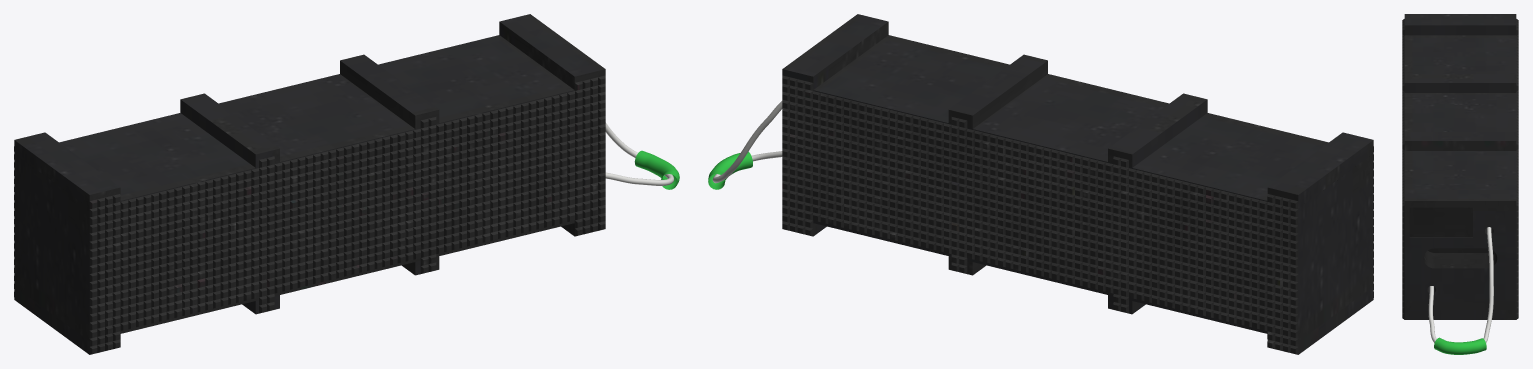
3 views of the same model, side by side, from view 1: azimuth 30°, elevation 25°; view 2: azimuth 150°, elevation 25°; view 3: azimuth 270°, elevation 25° (orthographic). The views are drawn at different scales.
Parts seen in each view (by area): view 1: Bedrock_6x7x24, grip, wire; view 2: Bedrock_6x7x24, wire, grip; view 3: Bedrock_6x7x24, wire, grip.
Part boxes in pixels (x1,y1,x2,y2): Bedrock_6x7x24: (14, 14, 605, 354); grip: (634, 150, 679, 189); wire: (605, 122, 673, 185); Bedrock_6x7x24: (782, 14, 1373, 354); wire: (712, 101, 782, 183); grip: (708, 151, 752, 189); Bedrock_6x7x24: (1402, 14, 1518, 319); wire: (1428, 227, 1493, 342); grip: (1434, 337, 1486, 354).
Size of the model in its own units: 0.7218 by 0.178 by 0.158.
3 materials, 1 textured.
